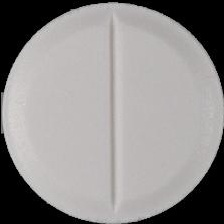42291-367: (0, 0, 224, 224)
